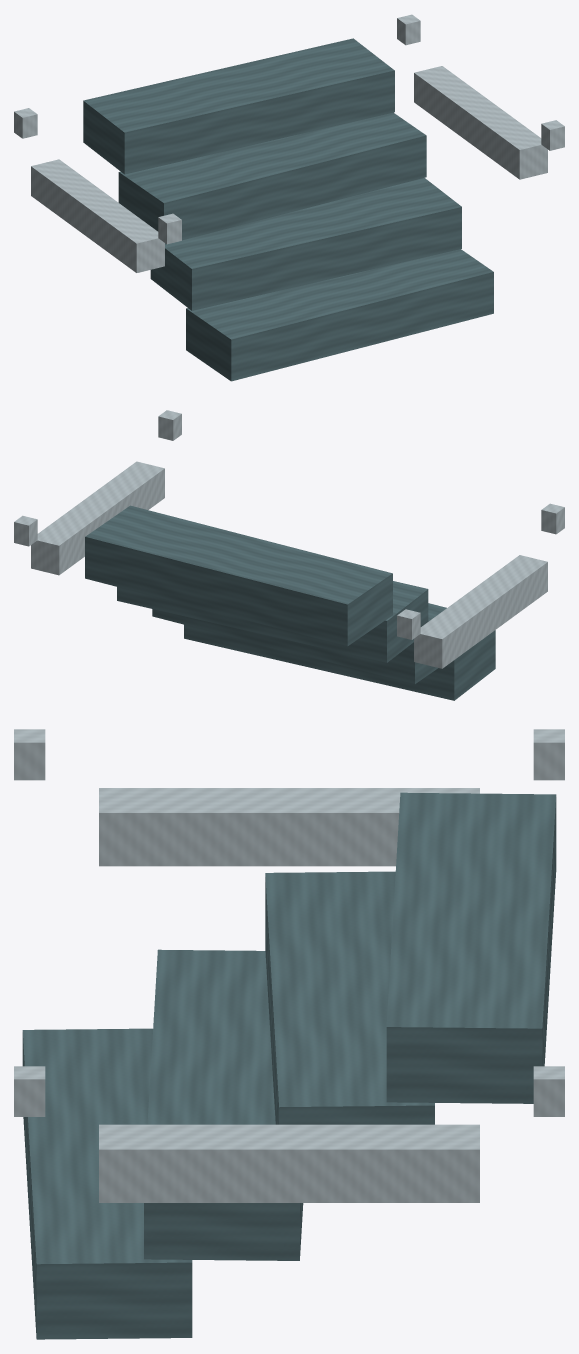
File: underworld-refined-rimewood-laminate.glb
3 renders of one model, top to bottom at view 1: azimuth 30°, elevation 25°; view 2: azimuth 150°, elevation 25°; view 3: azimuth 270°, elevation 25°, orthographic. The views are drawn at different scales.
Parts seen in each view (by area): view 1: lamina-3, lamina-0, lamina-1, lamina-2, cross-key-1, cross-key-0, peg-0-1, peg-1-1, peg-1--1, peg-0--1; view 2: lamina-3, cross-key-0, cross-key-1, lamina-2, lamina-0, lamina-1, peg-0-1, peg-1-1, peg-0--1, peg-1--1; view 3: lamina-3, lamina-0, lamina-2, cross-key-1, lamina-1, cross-key-0, peg-0--1, peg-0-1, peg-1--1, peg-1-1.
Boxes of the visible parts, left/top/right/bottom form: lamina-3: left=83, top=38, right=394, bottom=174; lamina-0: left=186, top=249, right=493, bottom=381; lamina-1: left=150, top=178, right=461, bottom=310; lamina-2: left=118, top=112, right=426, bottom=244; cross-key-1: left=414, top=66, right=547, bottom=179; cross-key-0: left=31, top=159, right=164, bottom=272; peg-0-1: left=14, top=108, right=37, bottom=138; peg-1-1: left=397, top=14, right=420, bottom=45; peg-1--1: left=541, top=120, right=564, bottom=150; peg-0--1: left=158, top=213, right=181, bottom=244; lamina-3: left=85, top=505, right=392, bottom=646; cross-key-0: left=414, top=555, right=547, bottom=668; cross-key-1: left=31, top=461, right=164, bottom=575; lamina-2: left=117, top=581, right=428, bottom=662; lamina-0: left=184, top=624, right=495, bottom=700; lamina-1: left=152, top=603, right=446, bottom=684; peg-0-1: left=397, top=609, right=420, bottom=639; peg-1-1: left=14, top=515, right=37, bottom=546; peg-0--1: left=541, top=503, right=564, bottom=534; peg-1--1: left=158, top=410, right=181, bottom=440; lamina-3: left=386, top=792, right=556, bottom=1103; lamina-0: left=22, top=1028, right=192, bottom=1339; lamina-2: left=265, top=871, right=434, bottom=1124; cross-key-1: left=99, top=1124, right=479, bottom=1202; lamina-1: left=144, top=949, right=303, bottom=1260; cross-key-0: left=99, top=788, right=479, bottom=866; peg-0--1: left=14, top=729, right=45, bottom=780; peg-0-1: left=533, top=729, right=564, bottom=780; peg-1--1: left=14, top=1066, right=45, bottom=1116; peg-1-1: left=533, top=1066, right=564, bottom=1116.
Size of the model in its own units: 0.247 by 0.101 by 0.159.
Materials: 2 (2 with a texture image).
